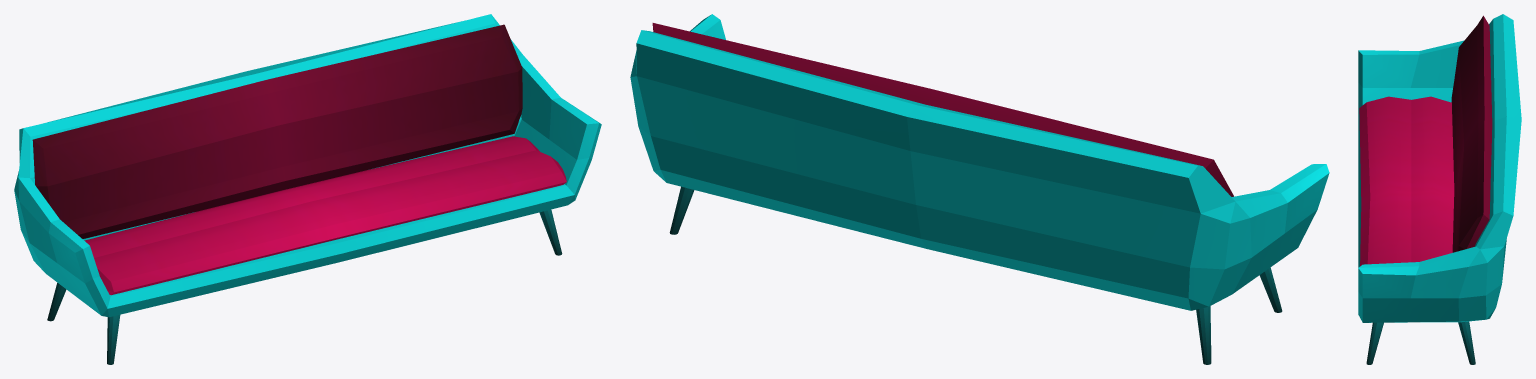
Rendered from Sillonlargo.fbx.
3 renders of one model, left to right at view 1: azimuth 30°, elevation 25°; view 2: azimuth 150°, elevation 25°; view 3: azimuth 270°, elevation 25°, orthographic. The views are drawn at different scales.
Visible parts, largest first — view 1: Sillonlargo; view 2: Sillonlargo; view 3: Sillonlargo.
Part boxes in pixels (<box>): Sillonlargo: <box>14,14,601,364</box>; Sillonlargo: <box>630,14,1329,364</box>; Sillonlargo: <box>1358,14,1521,364</box>.
Bounding box in the file's own units: 8.98 × 2.95 × 2.79.
Materials: 1 (1 with a texture image).
